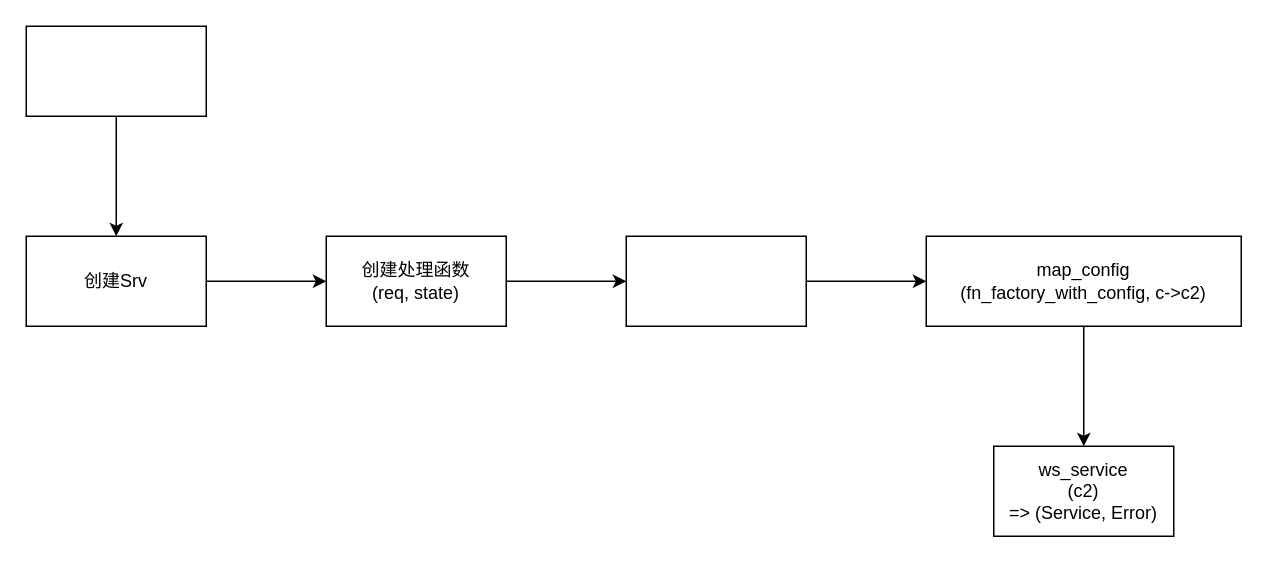
The diagram is 1268 pixels wide and 563 high, and some of its shapes have lost their labels. The shapes that lost their labels are listed below. From the top down, each one's box as (x1, y1, x2, y2) in pixels, then its label:
(25, 25, 206, 116): 创建State
(625, 235, 806, 326): 创建websocket (req, map_config)
